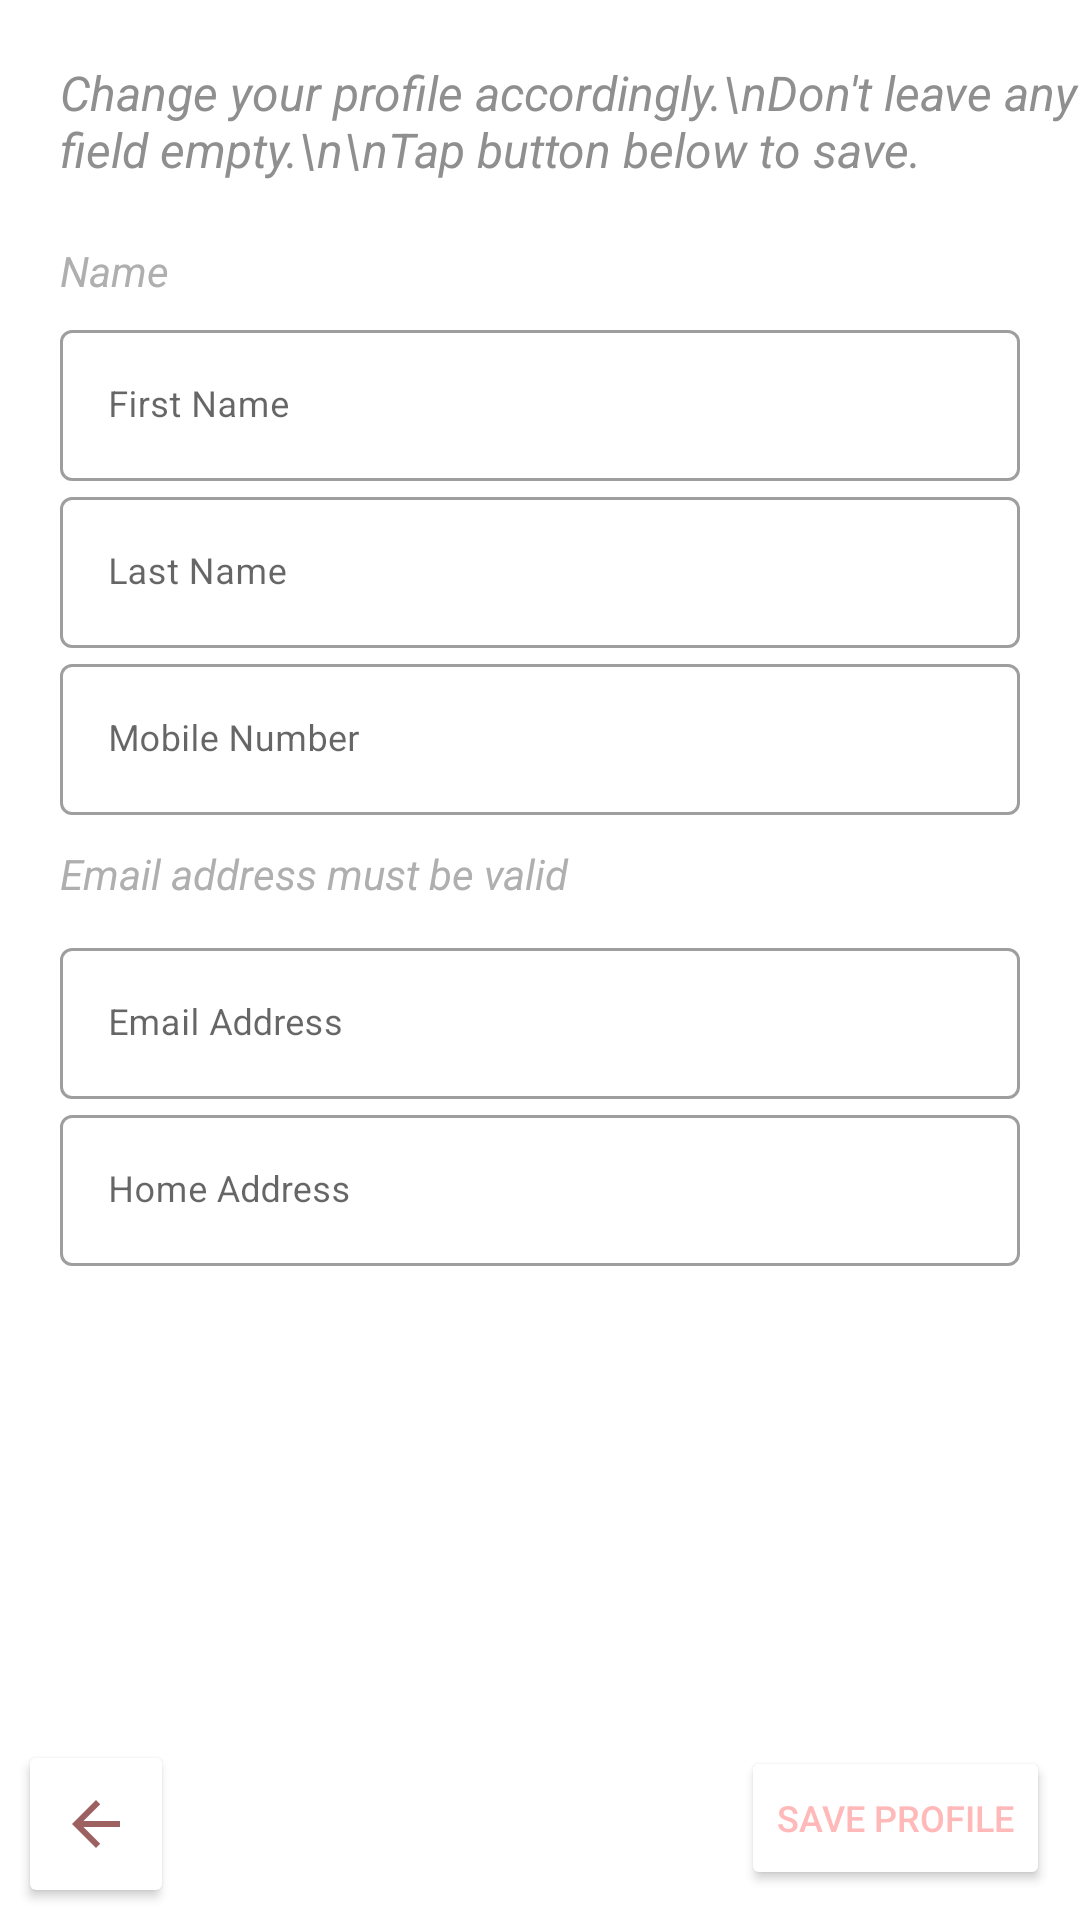

Named icons in this screenshot (1080w x 1920h) and their centers, [x,y]:
arrow back: [96,1824]
